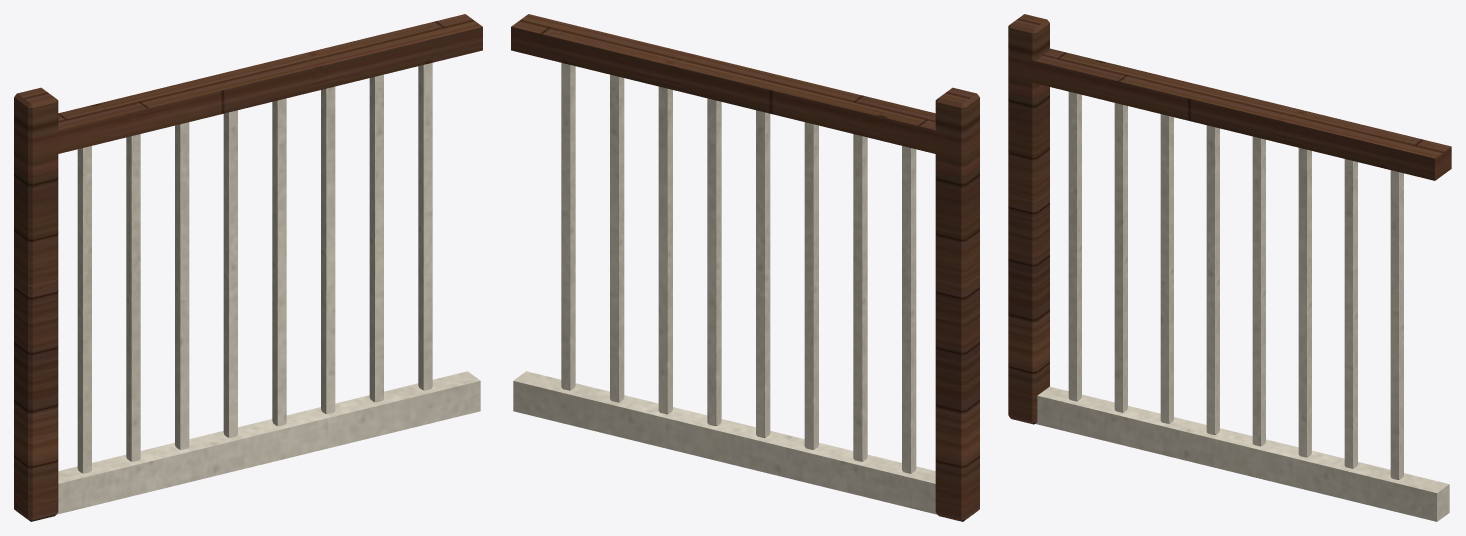
File: rail_116_10.glb
3 views of the same model, side by side, from view 1: azimuth 30°, elevation 25°; view 2: azimuth 150°, elevation 25°; view 3: azimuth 330°, elevation 25° (orthographic). The views are drawn at different scales.
Parts seen in each view (by area): view 1: rail_116_10_trim, rail_116_10_wood; view 2: rail_116_10_trim, rail_116_10_wood; view 3: rail_116_10_trim, rail_116_10_wood.
Boxes of the visible parts, left/top/right/bottom form: rail_116_10_trim: left=57, top=63, right=480, bottom=514; rail_116_10_wood: left=14, top=14, right=482, bottom=521; rail_116_10_trim: left=513, top=63, right=936, bottom=514; rail_116_10_wood: left=511, top=14, right=979, bottom=521; rail_116_10_trim: left=1035, top=91, right=1449, bottom=521; rail_116_10_wood: left=1008, top=14, right=1451, bottom=424.
Size of the model in its own units: 1.2 by 1.06 by 0.08.
Materials: 2 (2 with a texture image).
